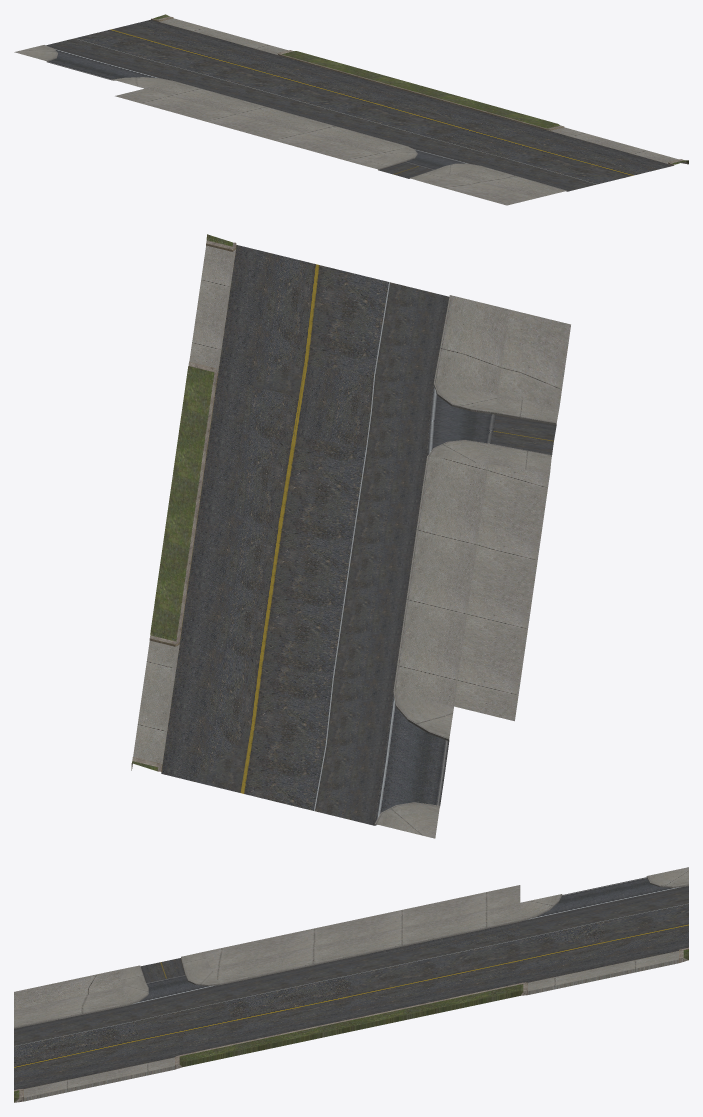
The model's file is vgseedge14.obj.
The picture shows the model from 3 angles, top to bottom: view 1: azimuth 30°, elevation 25°; view 2: azimuth 150°, elevation 25°; view 3: azimuth 270°, elevation 25°; orthographic projection. The views are drawn at different scales.
Parts seen in each view (by area): view 1: vgsEedge14; view 2: vgsEedge14; view 3: vgsEedge14.
Boxes of the visible parts, x1=… form: vgsEedge14: x1=14, y1=14, x2=688, y2=205; vgsEedge14: x1=131, y1=234, x2=570, y2=838; vgsEedge14: x1=14, y1=867, x2=688, y2=1102.
Size of the model in its own units: 64.99 by 0.756 by 80.
Materials: 9 (9 with a texture image).
